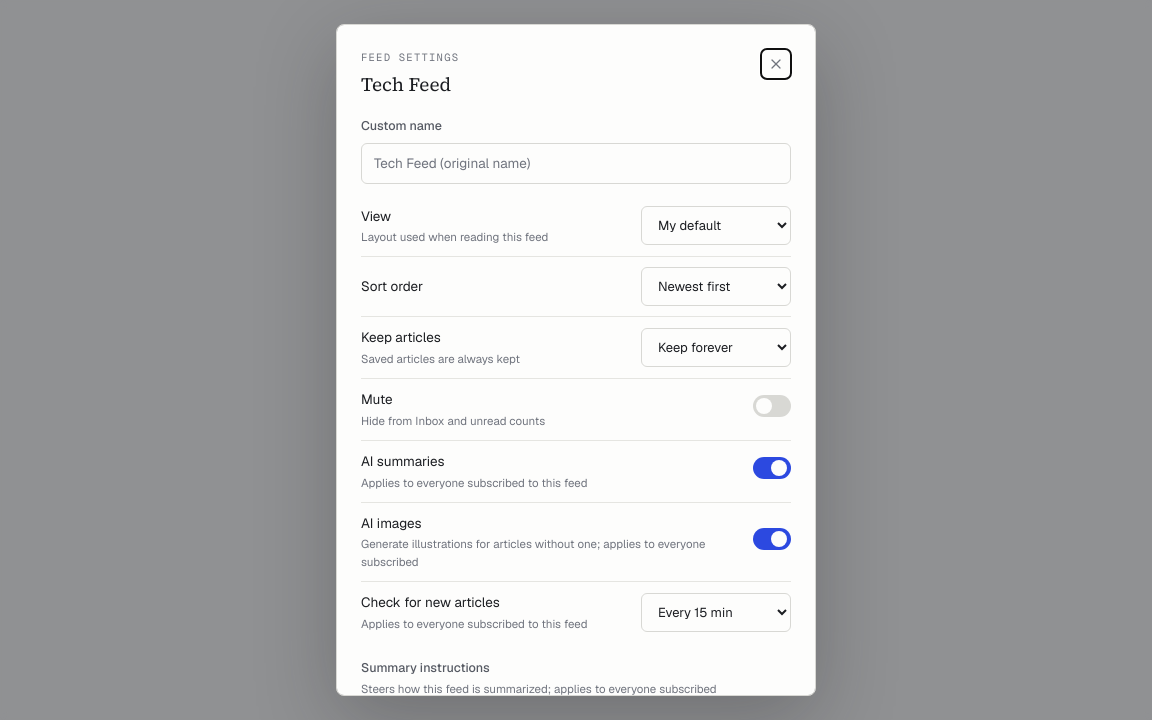
Test: <FeedSettingsModal> › shows an error and stays open when saving fails
Select "Oldest first" in the dropdown named "Sort order" at (716, 287), box x1=641 y1=267 x2=791 y2=306
(page scrolled)
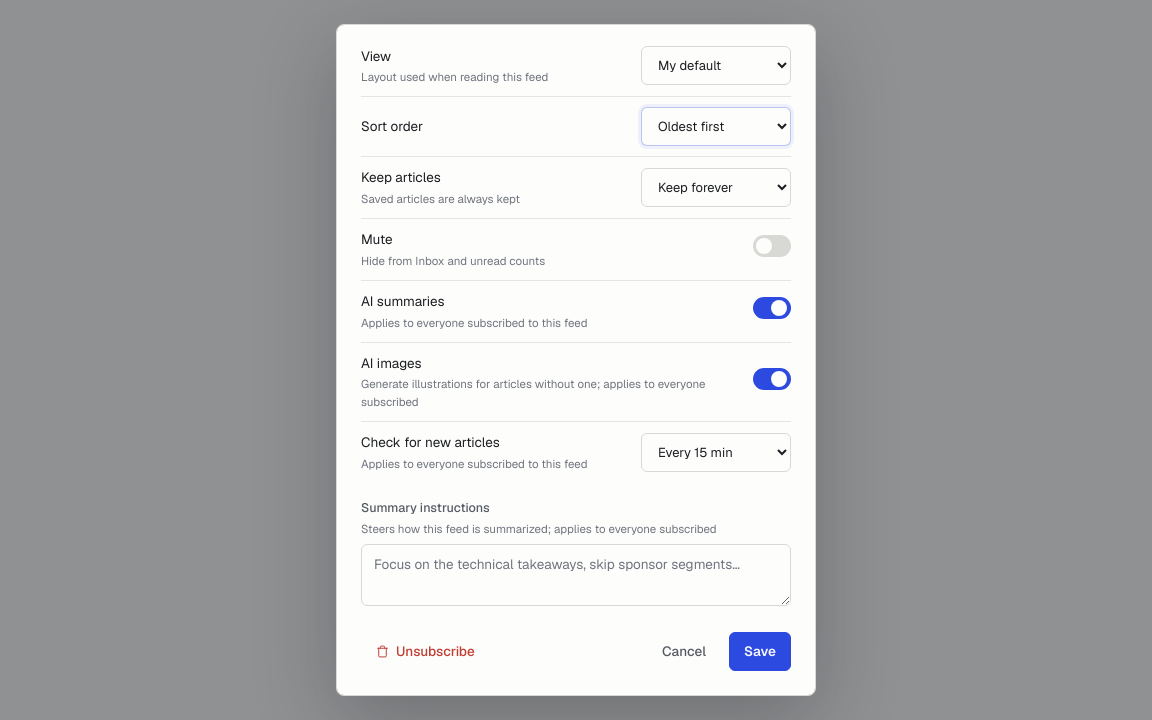
Click the button "Save" at (760, 651), box x1=729 y1=632 x2=791 y2=671
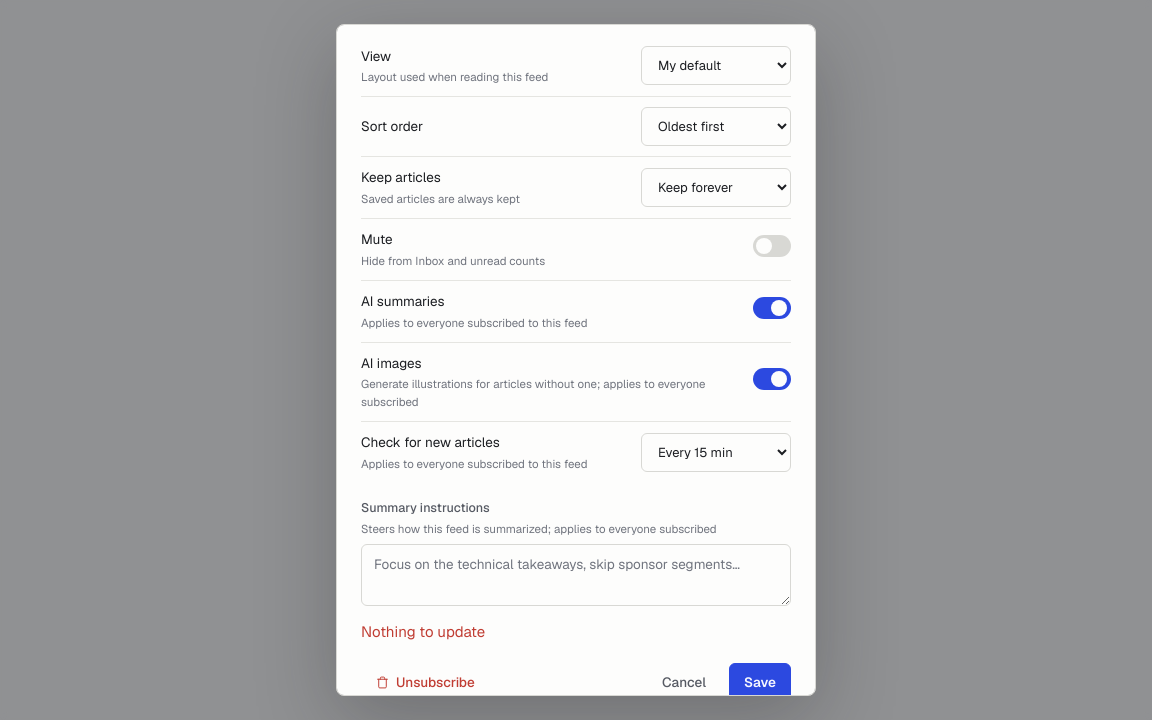
expect the text "Nothing to update" is shown: met, box x1=361 y1=622 x2=485 y2=641
